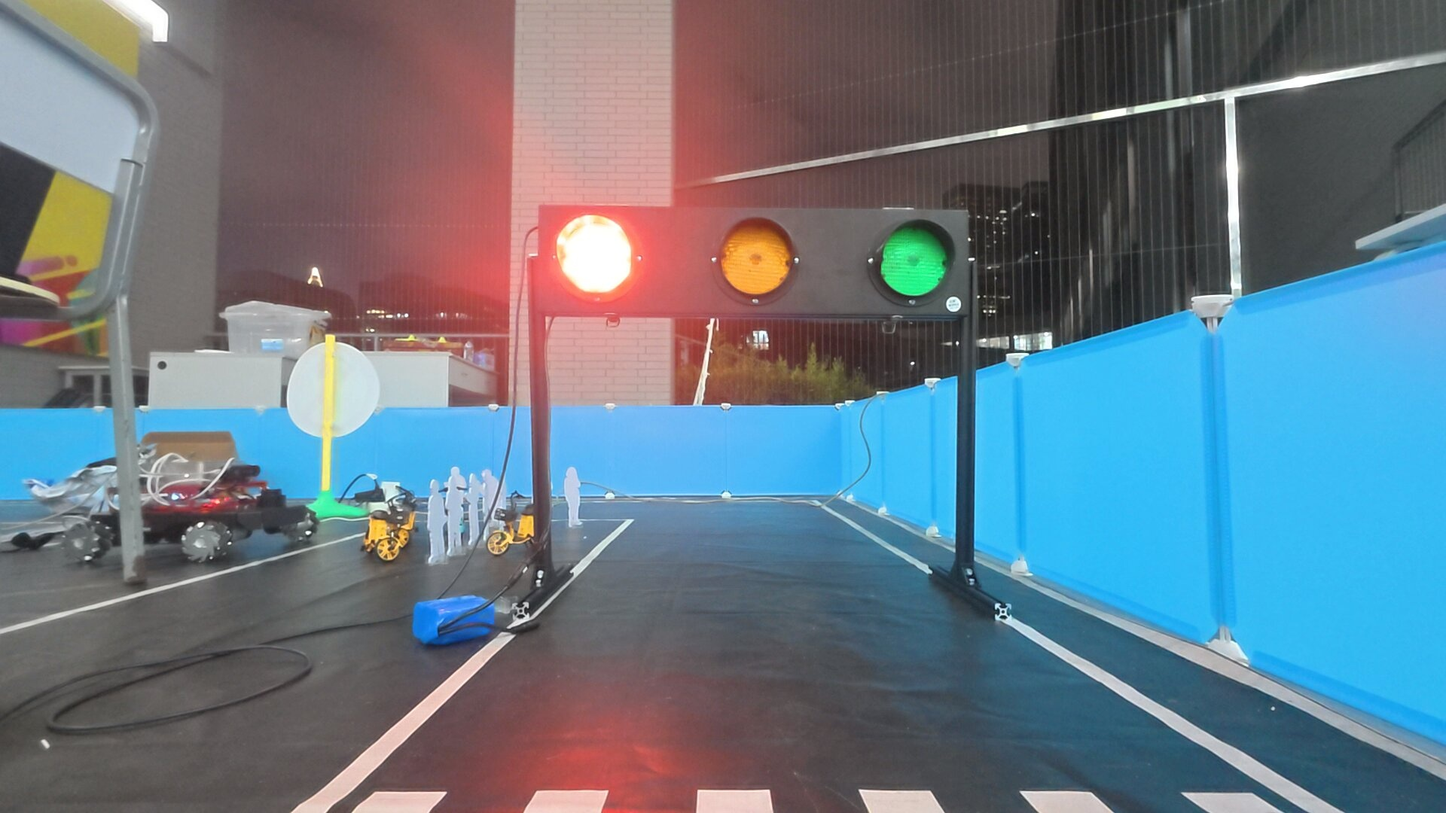stop: (546, 207, 643, 308)
